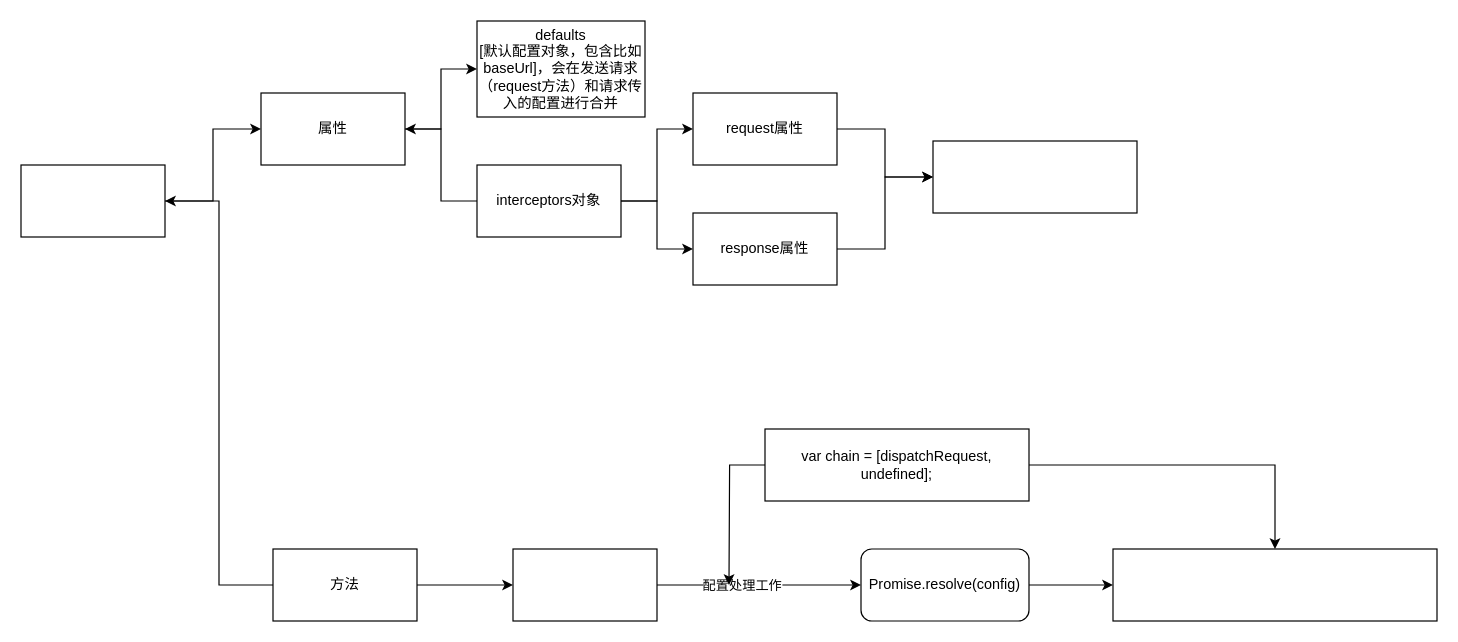
Image size: 1458x642. Some labels were removed from this diagram. Here are the shapes that lost their labels. From the top down, the centre of each, then its label:
(x=1034, y=176): InterceptorManager类
(x=92, y=200): Axios
(x=584, y=584): request(config)
(x=1274, y=584): .then(dispatchRequest, undefined)
